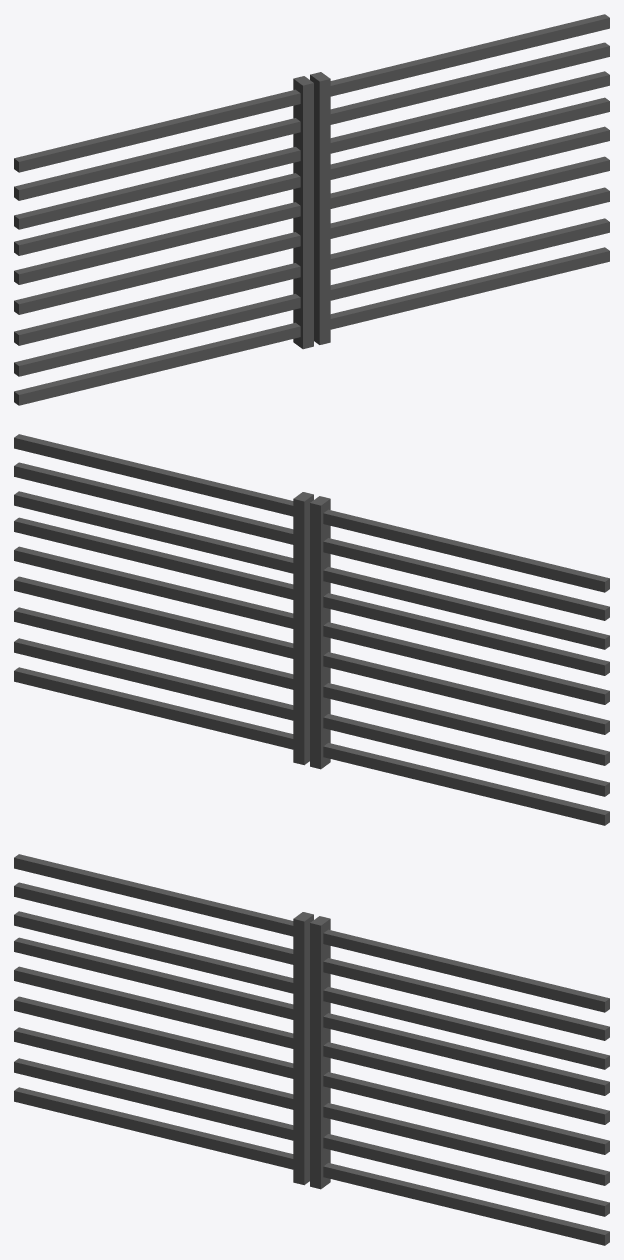
The model's file is MetalGate.fbx.
3 views of the same model, one above another, from view 1: azimuth 30°, elevation 25°; view 2: azimuth 150°, elevation 25°; view 3: azimuth 330°, elevation 25° (orthographic).
Visible parts, largest first — view 1: MetalFence.001, MetalFence.003; view 2: MetalFence.001, MetalFence.003; view 3: MetalFence.003, MetalFence.001.
Boxes of the visible parts, x1,y1,x2,y2 form: MetalFence.001: (14, 76, 313, 405); MetalFence.003: (310, 14, 609, 344); MetalFence.001: (310, 496, 609, 825); MetalFence.003: (14, 434, 313, 765); MetalFence.003: (310, 916, 609, 1245); MetalFence.001: (14, 854, 313, 1185).
Bounding box in the file's own units: 5959 × 2541 × 169.
Materials: 1 (1 with a texture image).
